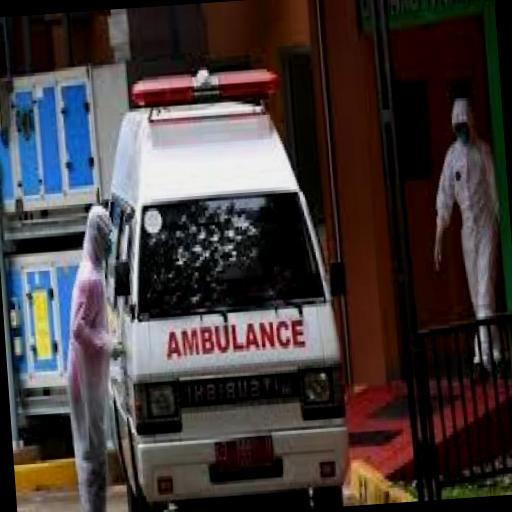Police car: (88, 61, 350, 512)
